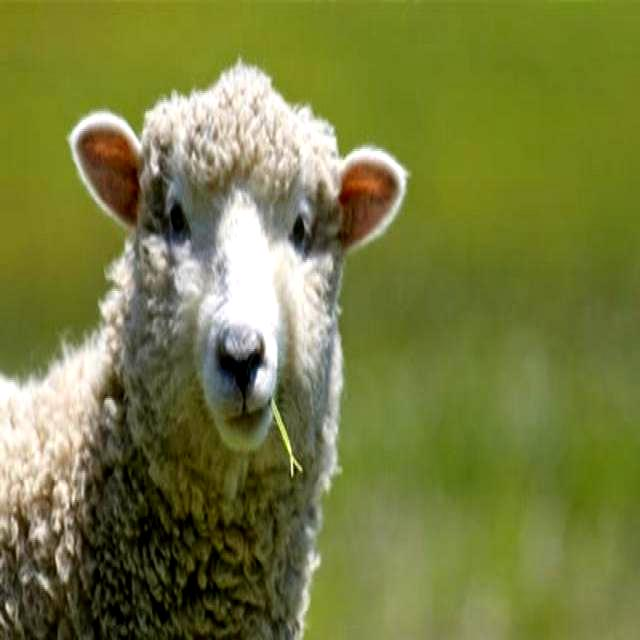sheep: (1, 67, 404, 639)
